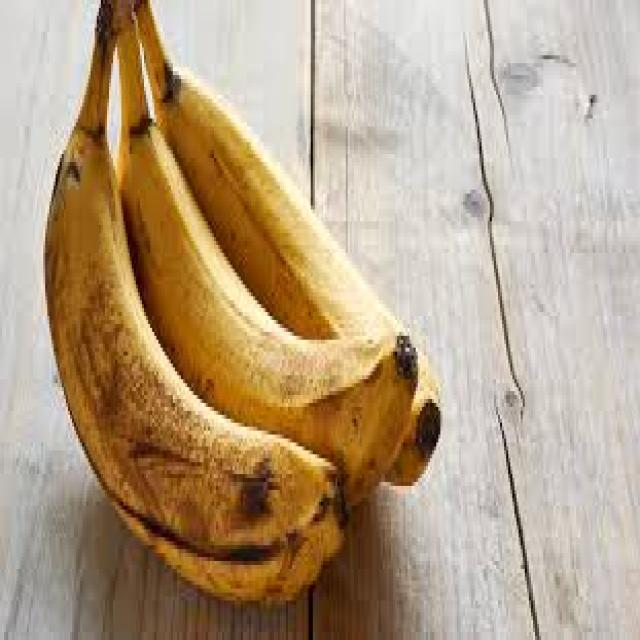banana: (43, 0, 448, 592)
